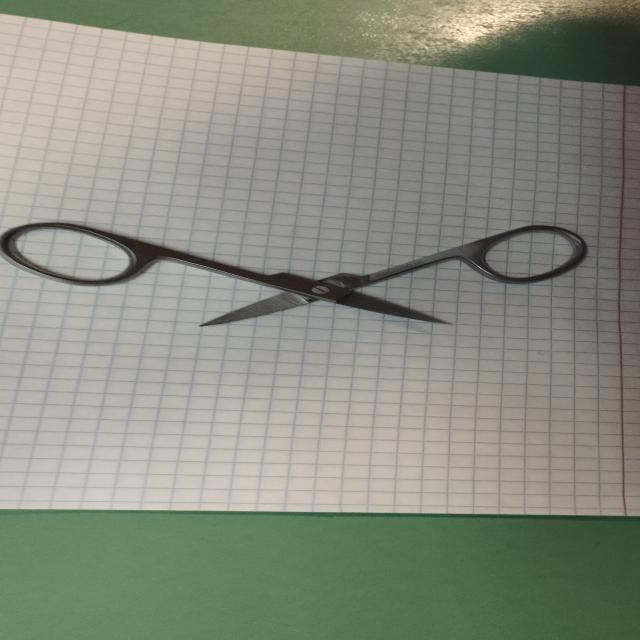tesoura: (1, 206, 596, 332)
